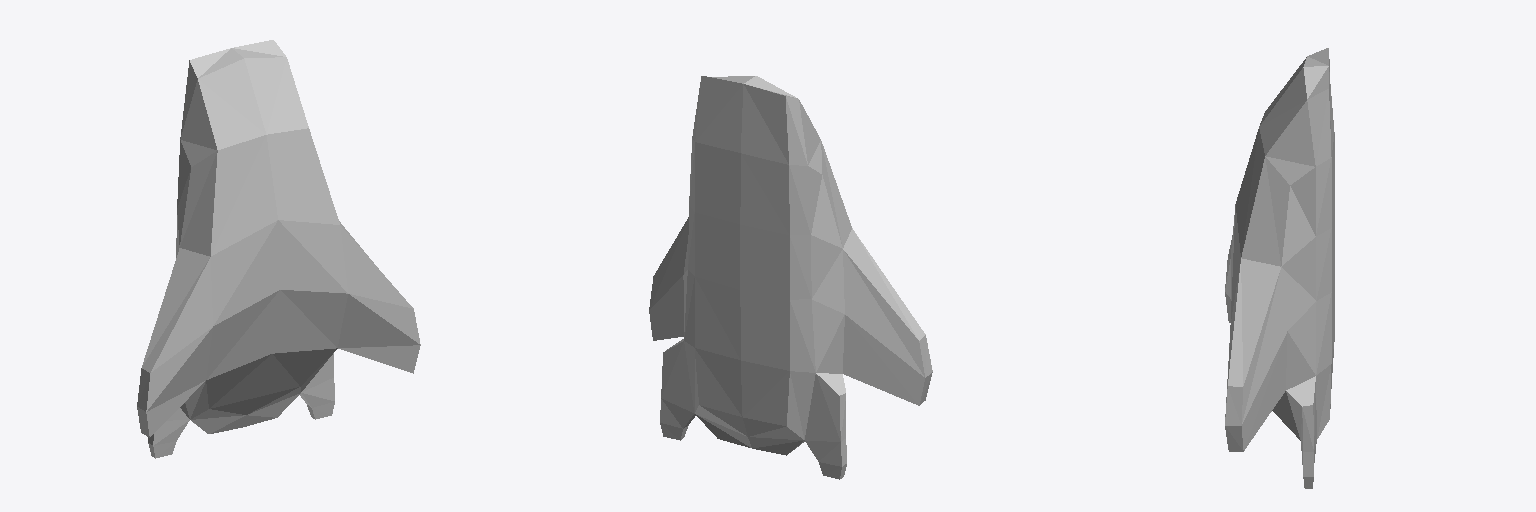
Rendered from Orbit.obj.
3 views of the same model, side by side, from view 1: azimuth 30°, elevation 25°; view 2: azimuth 150°, elevation 25°; view 3: azimuth 270°, elevation 25° (orthographic).
Visible parts, largest first — view 1: Cube.001; view 2: Cube.001; view 3: Cube.001.
Boxes of the visible parts, x1=… form: Cube.001: x1=137, y1=40, x2=420, y2=458; Cube.001: x1=649, y1=76, x2=932, y2=479; Cube.001: x1=1225, y1=48, x2=1334, y2=488.
Bounding box in the file's own units: 2.27 × 2.99 × 0.7851.